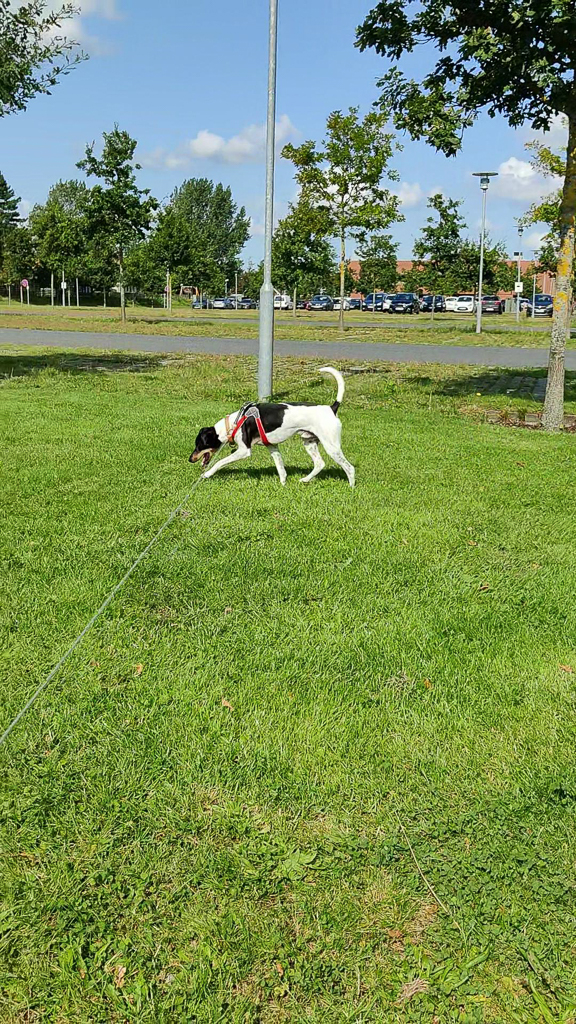Dog: (179, 358, 377, 491)
